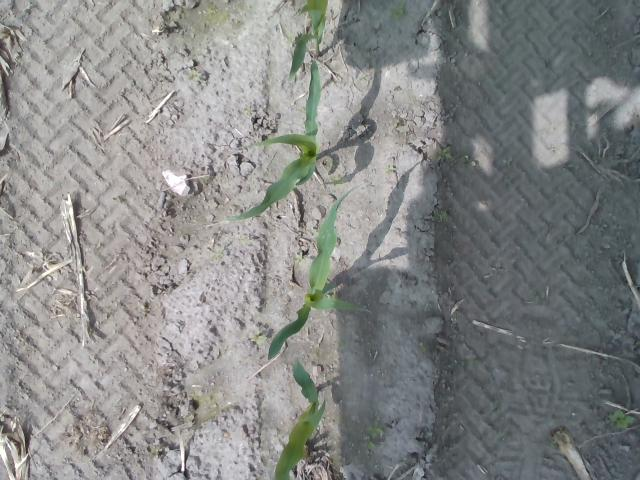Maize: (266, 182, 364, 352), (226, 57, 322, 222), (267, 356, 328, 480), (290, 0, 328, 80)
Weeds: (606, 408, 637, 430), (366, 425, 384, 450), (436, 146, 454, 162), (430, 210, 448, 224), (391, 4, 405, 20), (251, 334, 265, 344)
